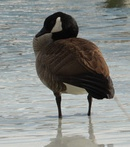goose: (29, 8, 121, 126)
